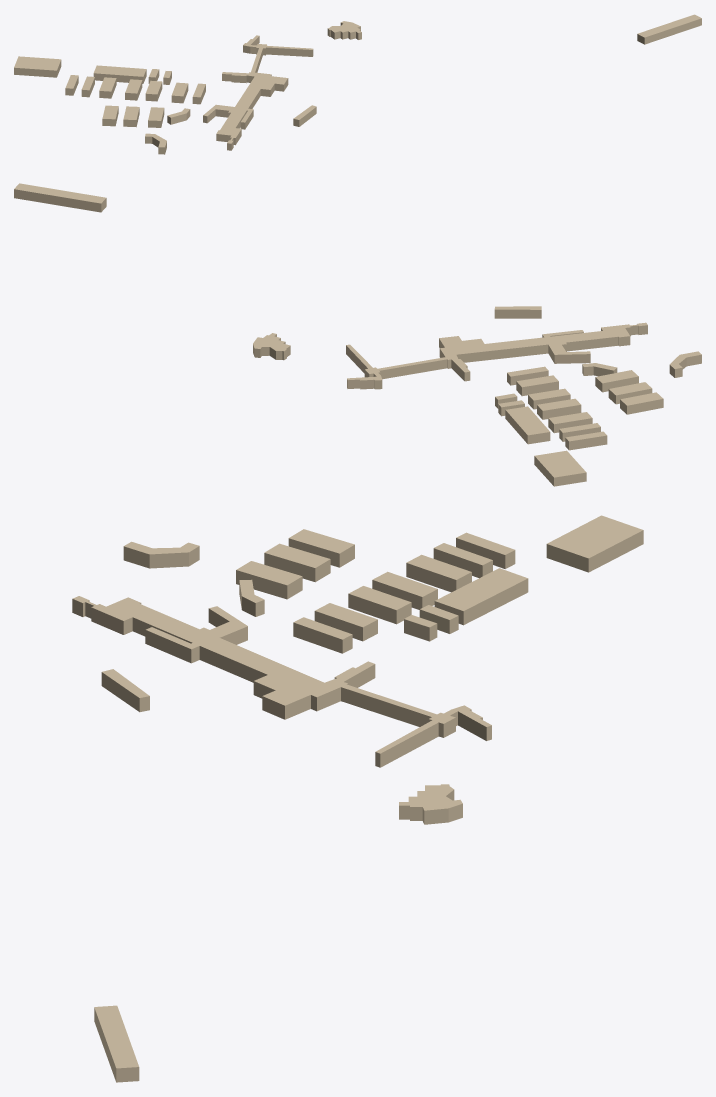
Rendered from -22_26-estimated-coarse.glb.
3 views of the same model, one above another, from view 1: azimuth 30°, elevation 25°; view 2: azimuth 150°, elevation 25°; view 3: azimuth 270°, elevation 25° (orthographic). The views are drawn at different scales.
Bounding box in the file's own units: 1010 × 12 × 441.
